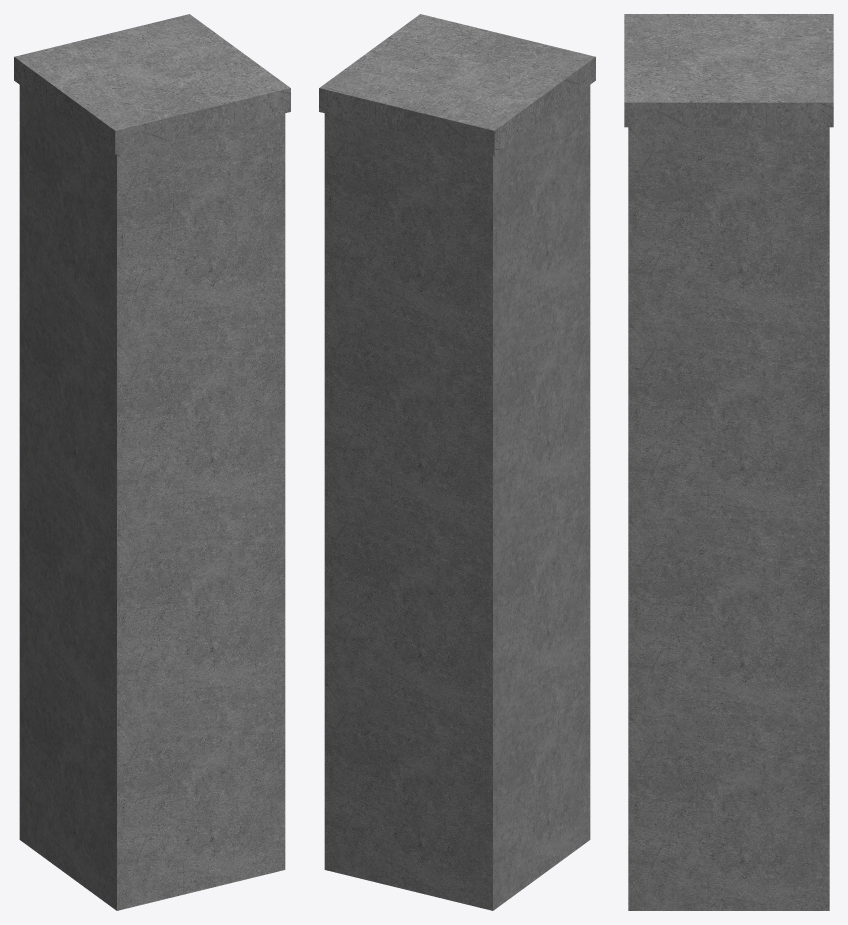
Rendered from chain_concretecornerspacer.fbx.
The picture shows the model from 3 angles, left to right: view 1: azimuth 30°, elevation 25°; view 2: azimuth 150°, elevation 25°; view 3: azimuth 270°, elevation 25°; orthographic projection. The views are drawn at different scales.
Parts seen in each view (by area): view 1: chain_concretecornerspacer; view 2: chain_concretecornerspacer; view 3: chain_concretecornerspacer.
Boxes of the visible parts, x1,y1,x2,y2 form: chain_concretecornerspacer: (14,14,290,910); chain_concretecornerspacer: (319,14,595,910); chain_concretecornerspacer: (624,14,833,910).
Size of the model in its own units: 0.6778 by 2.89 by 0.6772.
1 material, 1 textured.
